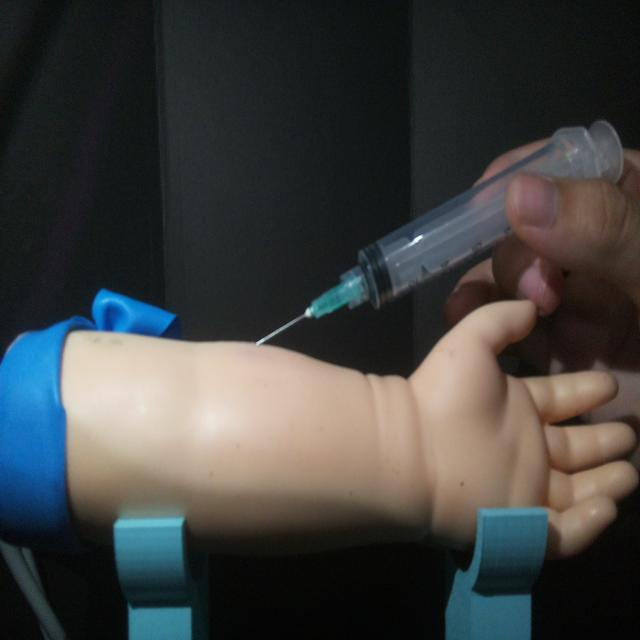26deg: (249, 115, 626, 350)
